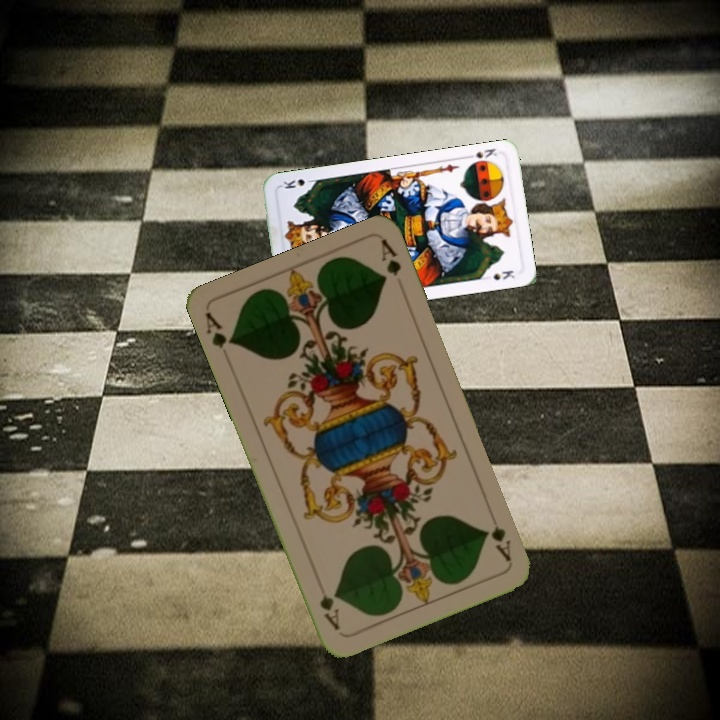GA: (484, 508, 514, 565), (201, 309, 237, 352)
SK: (462, 144, 500, 161)
